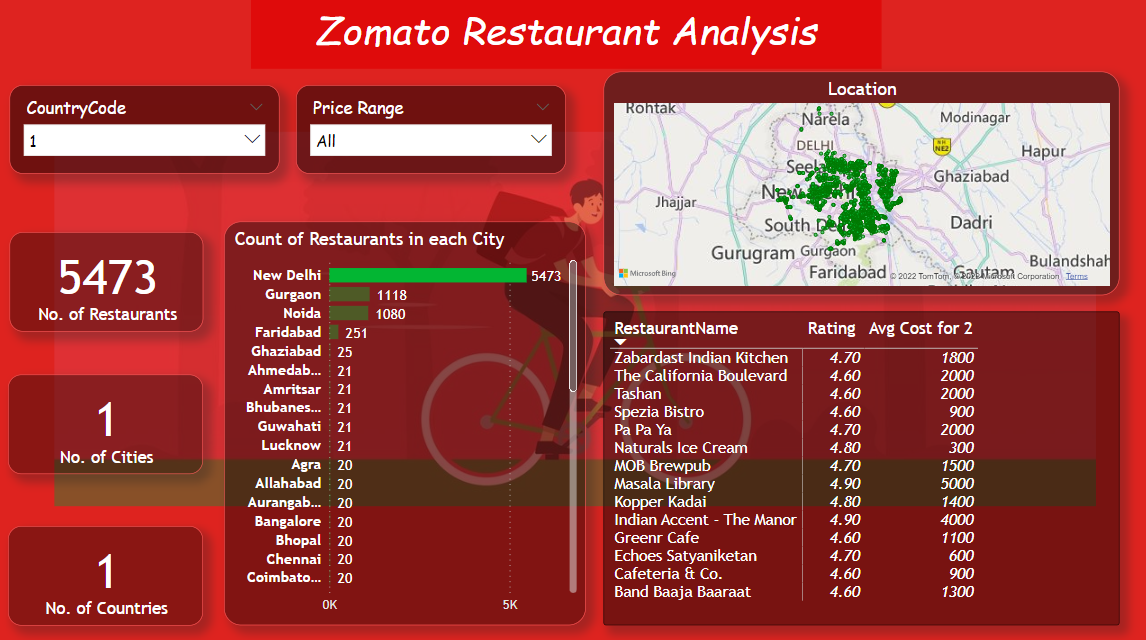

The page's visual inventory and layout, read from the dashboard file:
{"tool":"powerbi","page":{"name":"Page 1","canvas":[1280,720],"ordinal":0},"visuals":[{"type":"card","fields":{"Values":["Count(ZomatoData.RestaurantID)"]},"box":[12.1,259.3,215.4,110.7],"z":0},{"type":"card","fields":{"Values":["Count(ZomatoData.City)"]},"box":[10.6,418.6,216.9,110.7],"z":1000},{"type":"card","fields":{"Values":["Count(ZomatoData.CountryCode)"]},"box":[10.6,586.9,216.9,110.7],"z":2000},{"type":"slicer","fields":{"Values":["ZomatoData.CountryCode"]},"box":[12.1,97.1,300.3,98.6],"z":3000},{"type":"slicer","fields":{"Values":["ZomatoData.Price_range"]},"box":[330.6,97.1,300.3,98.6],"z":4000},{"type":"clusteredBarChart","title":"Count of Restaurants in each City","fields":{"Category":["ZomatoData.City"],"Y":["CountNonNull(ZomatoData.RestaurantID)"]},"box":[250.2,248.7,401.9,448.9],"z":6000},{"type":"pivotTable","fields":{"Rows":["ZomatoData.RestaurantName"],"Values":["Avg(ZomatoData.Rating)","Sum(ZomatoData.Average_Cost_for_two)"]},"box":[671.8,348.8,573.3,348.8],"z":7000},{"type":"textbox","box":[280.6,0,700.7,78.9],"z":8000},{"type":"map","title":"Location","fields":{"Y":["ZomatoData.Latitude"],"X":["ZomatoData.Longitude"]},"box":[671.8,81.9,573.3,248.7],"z":9000}]}

Visuals, with their boxes in screenshot pixels (x1, y1, x2, y2), scaled from the page's 1280x720 canvas onto the 1146x640 screenshot:
card - Count(ZomatoData.RestaurantID): <region>11, 230, 204, 329</region>
card - Count(ZomatoData.City): <region>9, 372, 204, 470</region>
card - Count(ZomatoData.CountryCode): <region>9, 522, 204, 620</region>
slicer - ZomatoData.CountryCode: <region>11, 86, 280, 174</region>
slicer - ZomatoData.Price_range: <region>296, 86, 565, 174</region>
"Count of Restaurants in each City" clusteredBarChart: <region>224, 221, 584, 620</region>
pivotTable - ZomatoData.RestaurantName x Avg(ZomatoData.Rating): <region>601, 310, 1115, 620</region>
textbox: <region>251, 0, 879, 70</region>
"Location" map: <region>601, 73, 1115, 294</region>
